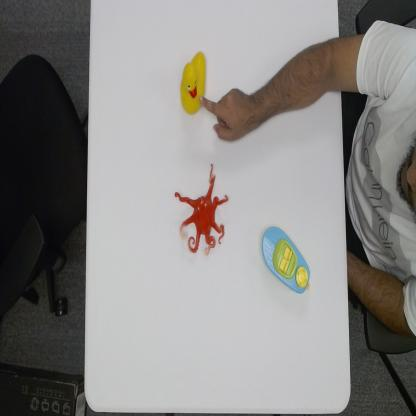Arm: (262, 26, 402, 124)
Boat: (261, 224, 311, 295)
Duck: (179, 48, 207, 117)
Hand: (199, 87, 258, 145)
Octopus: (174, 161, 230, 258)
